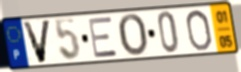0: (156, 10, 182, 56)
5: (51, 17, 83, 63)
E: (87, 15, 120, 60)
O: (116, 13, 150, 59), (184, 8, 214, 52)
V: (20, 18, 53, 65)
